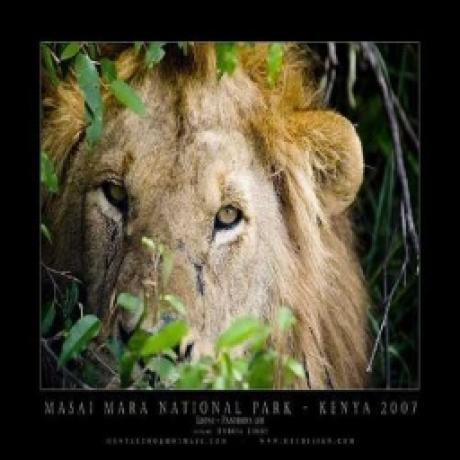Lion: (44, 43, 381, 397)
